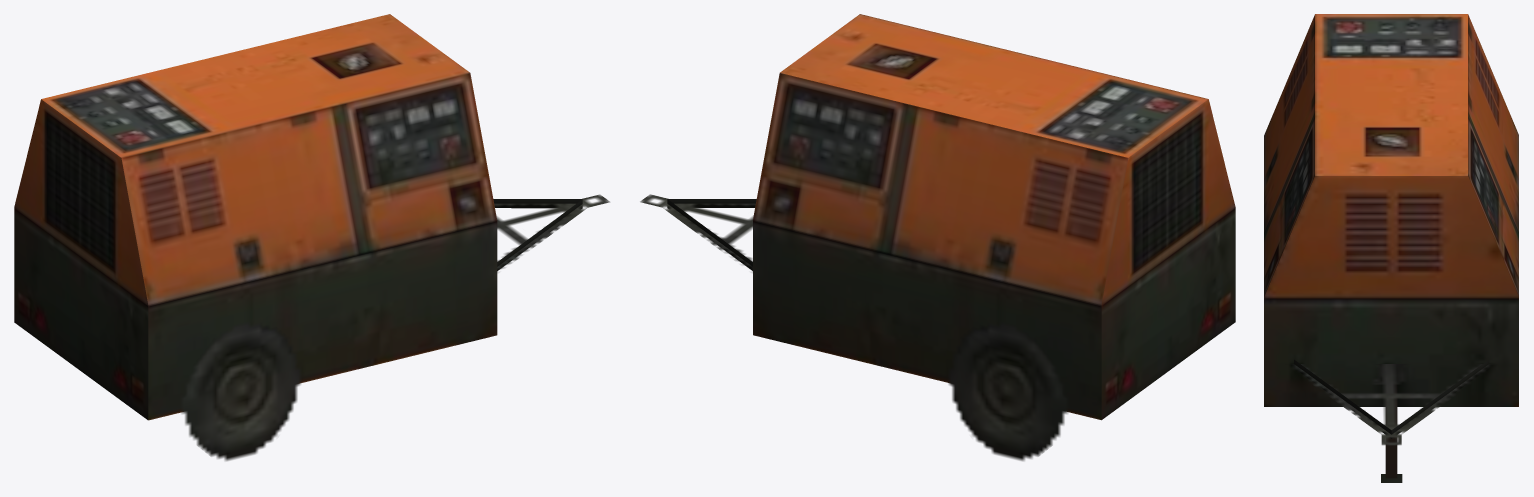
Rendered from emergency_power_station_ps1.glb.
The picture shows the model from 3 angles, left to right: view 1: azimuth 30°, elevation 25°; view 2: azimuth 150°, elevation 25°; view 3: azimuth 270°, elevation 25°; orthographic projection. The views are drawn at different scales.
Parts seen in each view (by area): view 1: Body; view 2: Body; view 3: Body.
Boxes of the visible parts, bbox=[...] form: Body: bbox=[14, 14, 609, 460]; Body: bbox=[640, 14, 1235, 460]; Body: bbox=[1264, 14, 1518, 482].
Bounding box in the file's own units: 1.99 × 1.19 × 0.8831.
1 material, 1 textured.
